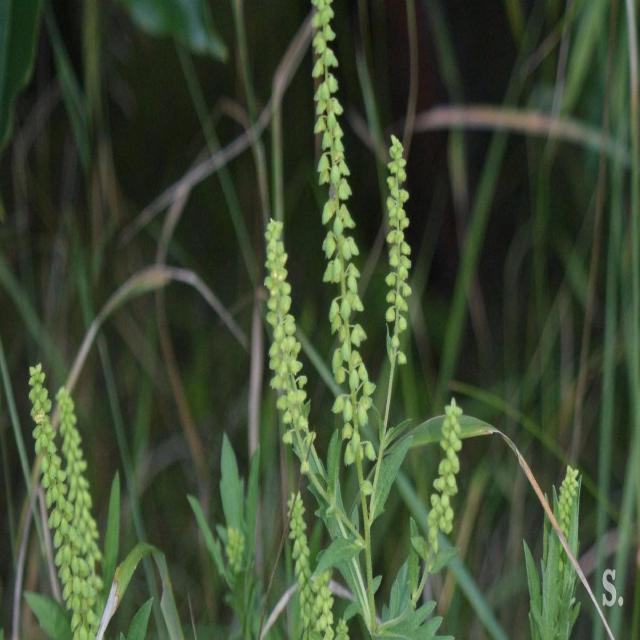ambrosia: (296, 0, 376, 489), (7, 344, 116, 640), (249, 212, 333, 509), (525, 452, 595, 640), (418, 356, 470, 582), (272, 512, 359, 640), (387, 110, 421, 401)
